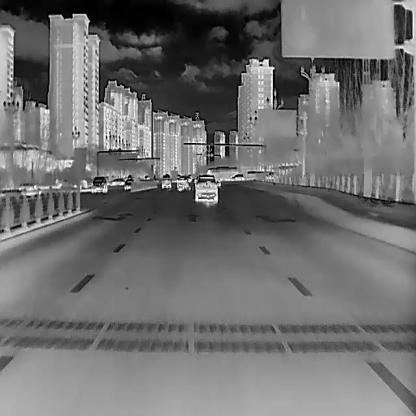car: (194, 173, 220, 204), (206, 165, 237, 182), (90, 176, 107, 194), (176, 175, 189, 189), (160, 176, 172, 190), (123, 178, 134, 190), (229, 173, 244, 181), (143, 174, 149, 179)
